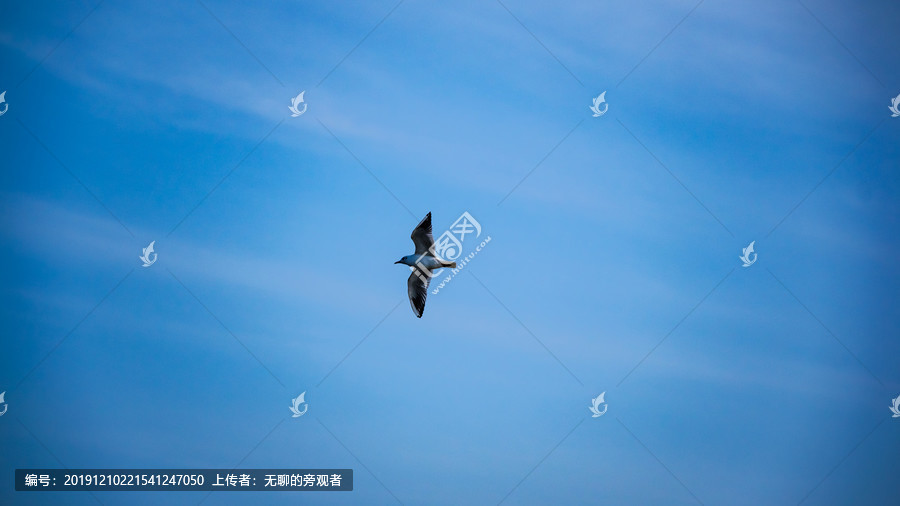bird: (383, 210, 456, 319)
